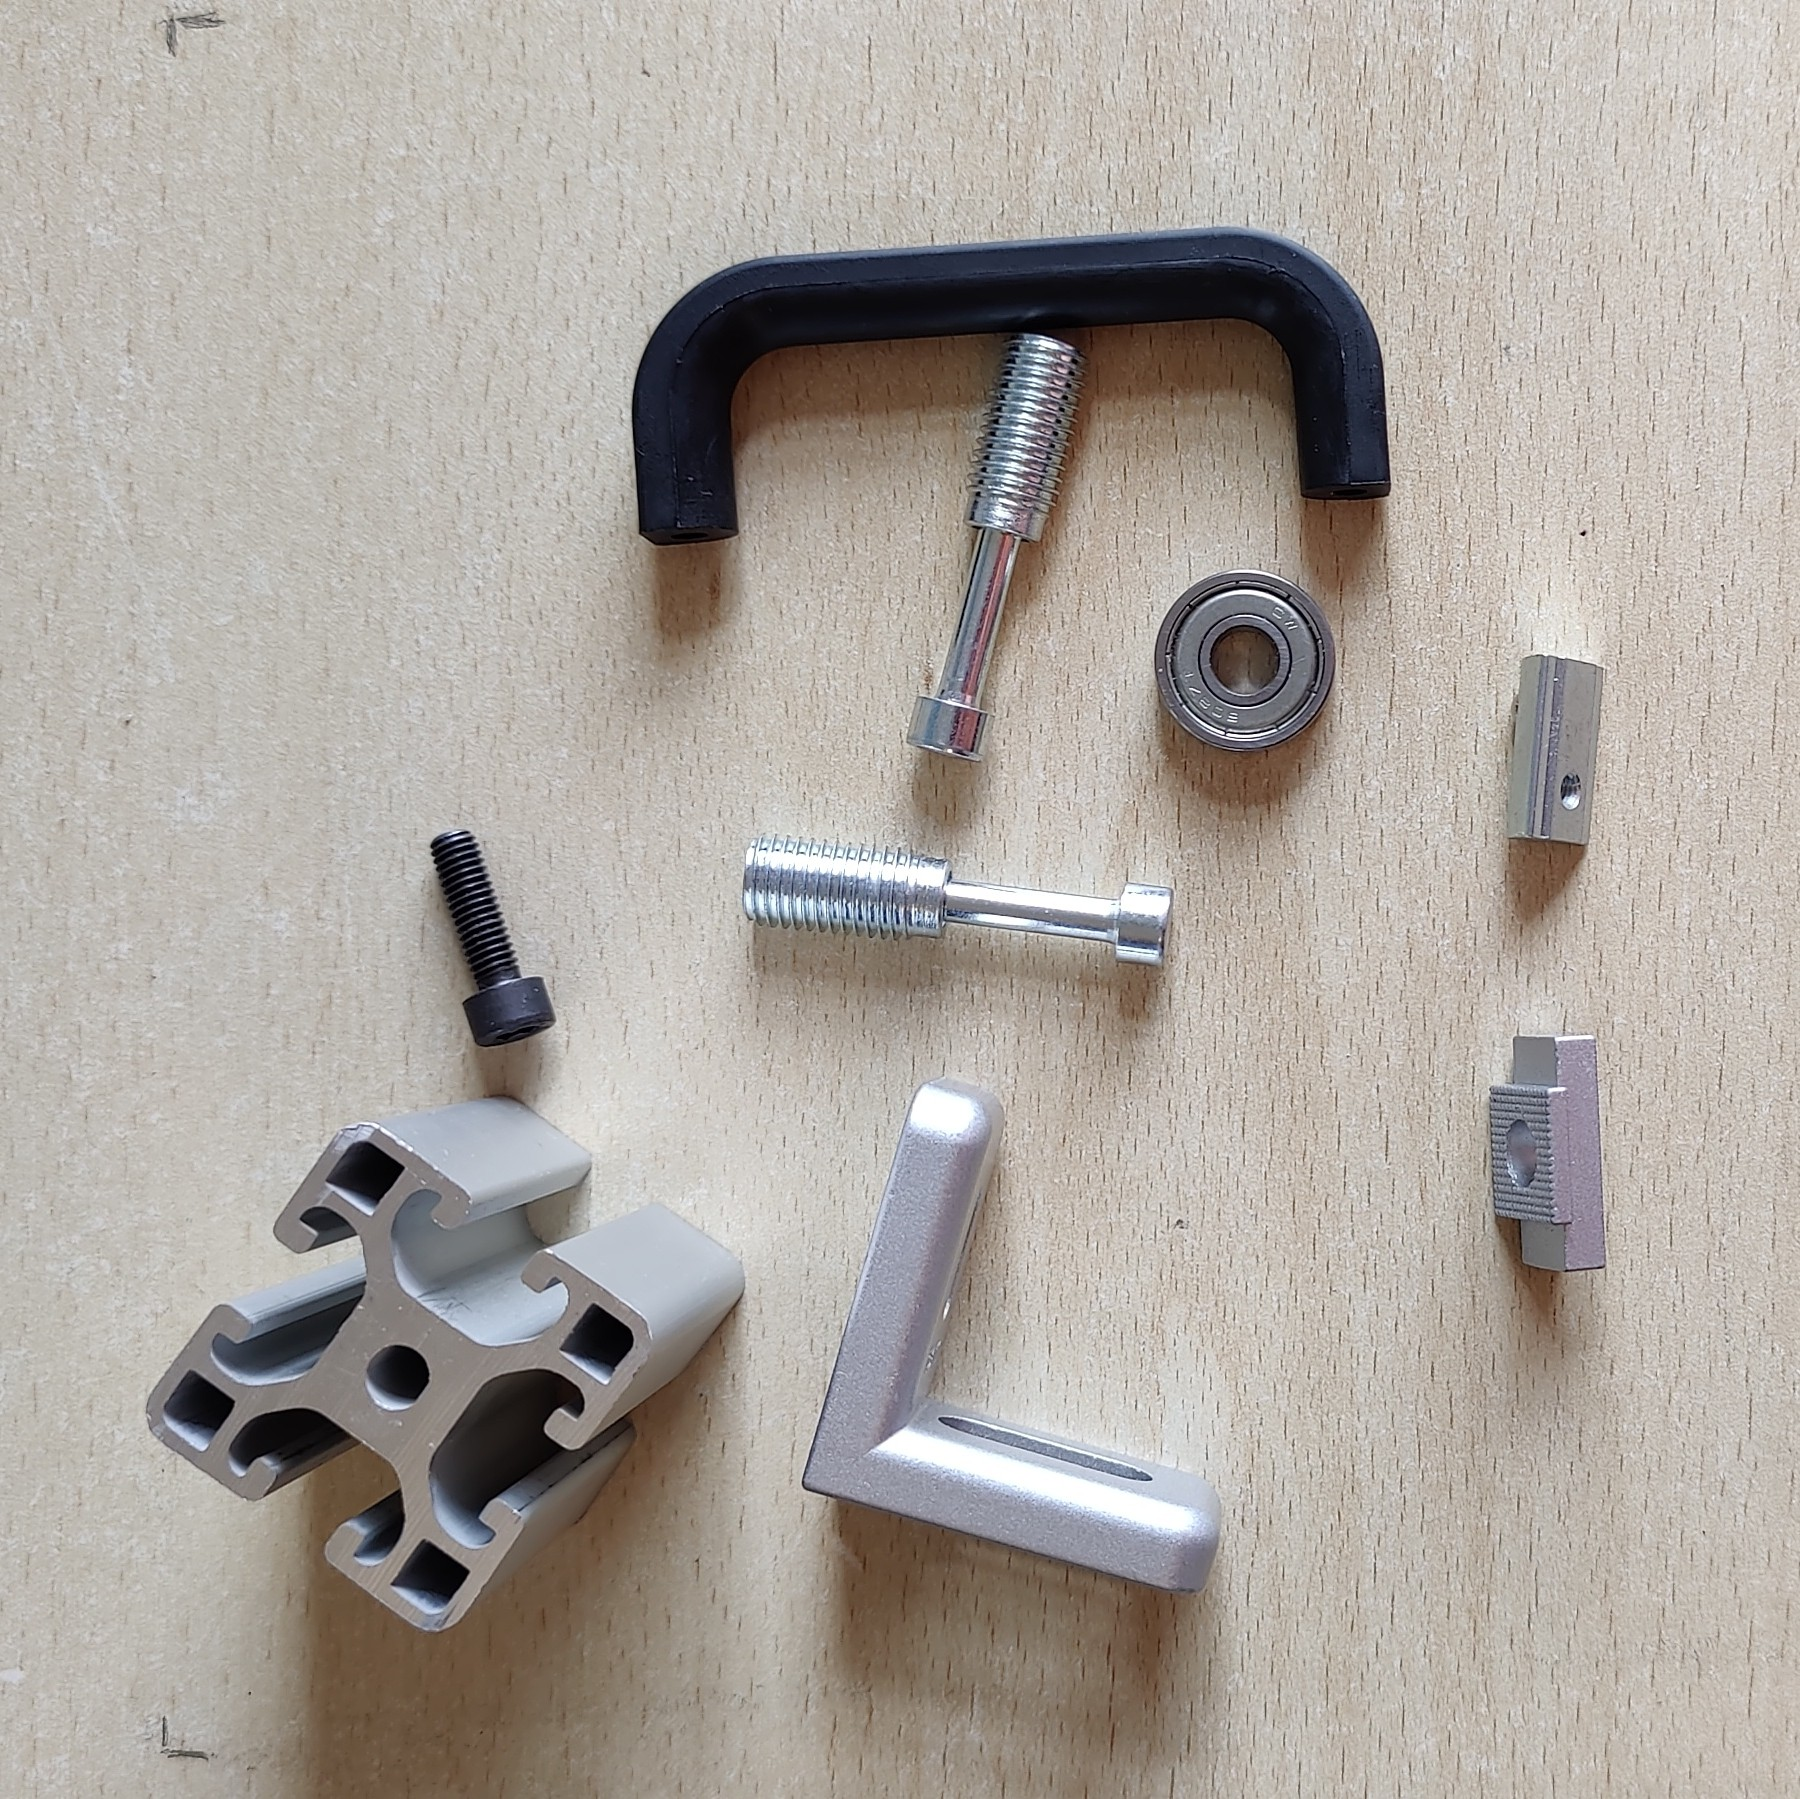Aluminium Extension: (143, 1091, 748, 1638)
Ball Bearing: (1153, 567, 1337, 758)
Multiwinkel: (800, 1071, 1225, 1596)
Pull Handle: (629, 222, 1393, 549)
Shoulder Socket Head Cap Screw: (902, 329, 1090, 764), (738, 827, 1177, 975)
Socket Head Cap Screw: (428, 824, 558, 1048)
T Nut Square: (1484, 1026, 1611, 1277)
T Spring Nut: (1502, 652, 1609, 850)
